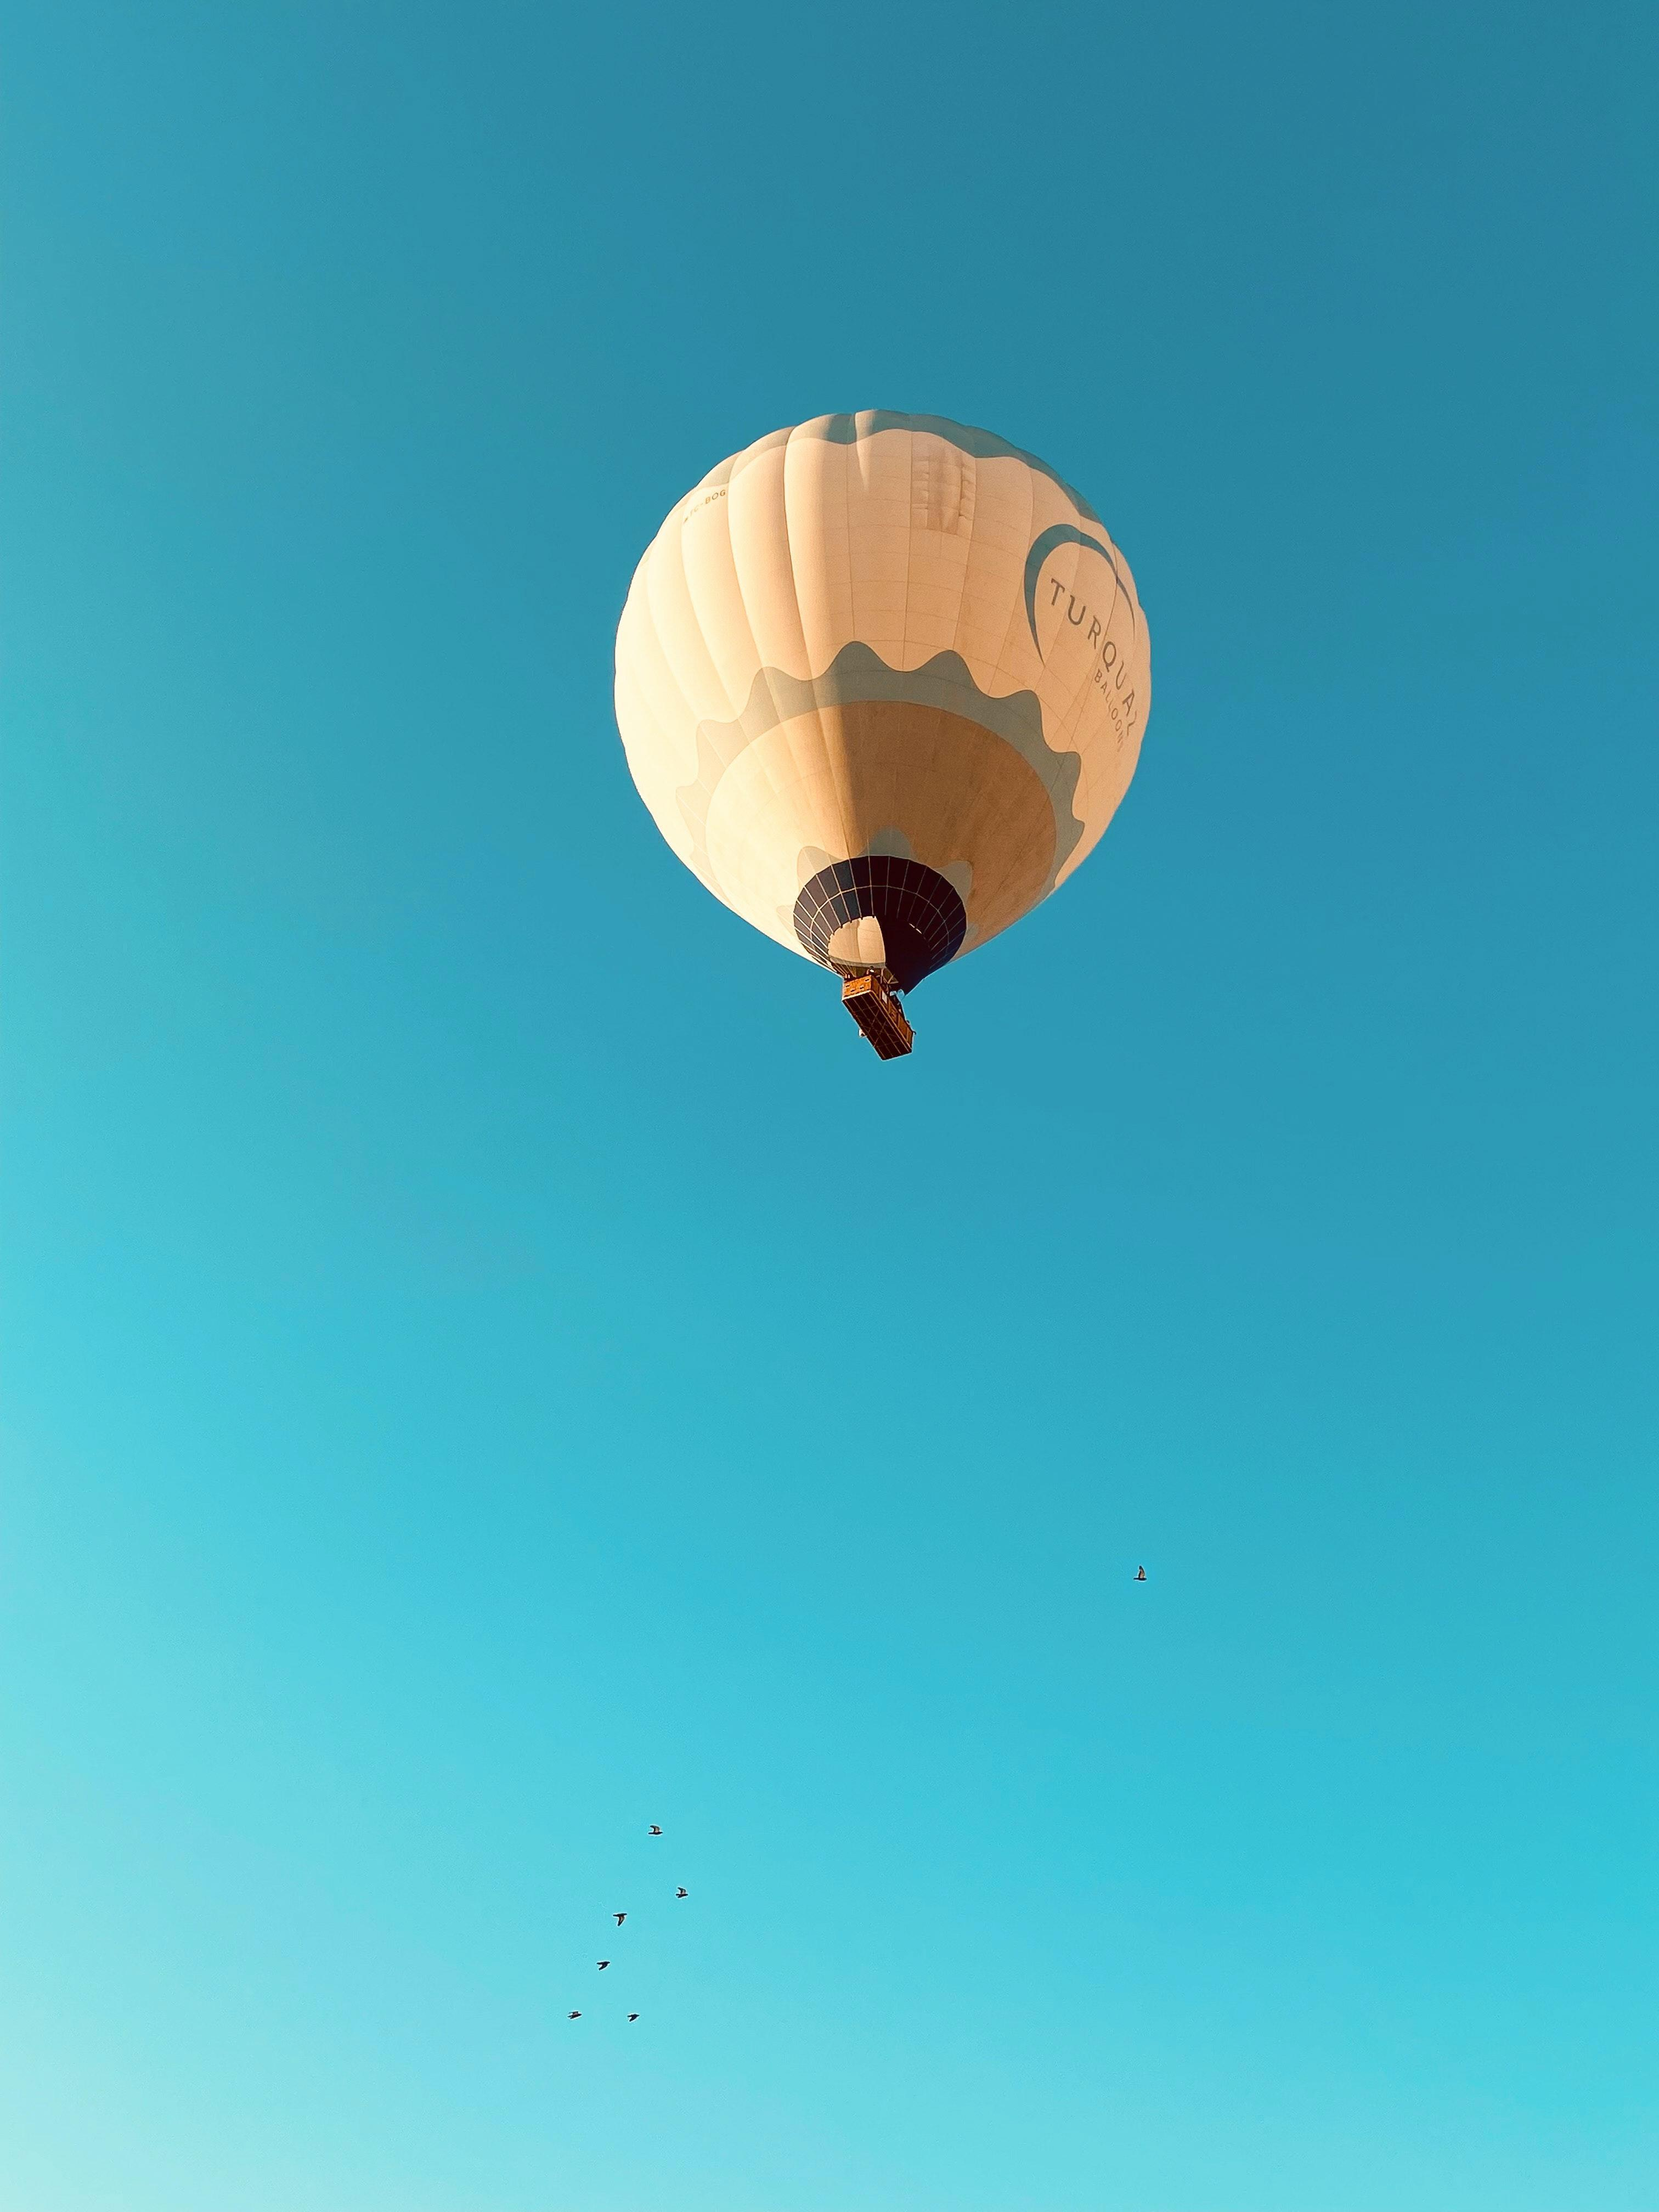hot air ballon: (605, 404, 1155, 1071)
